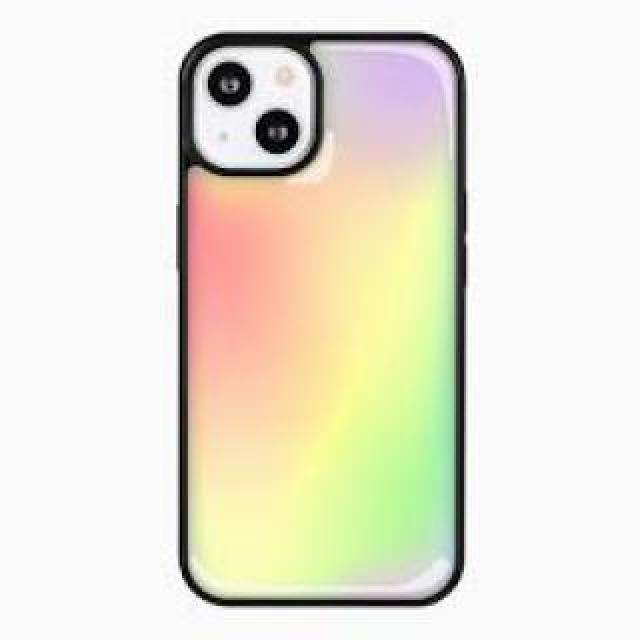smart phone: (168, 0, 492, 580)
